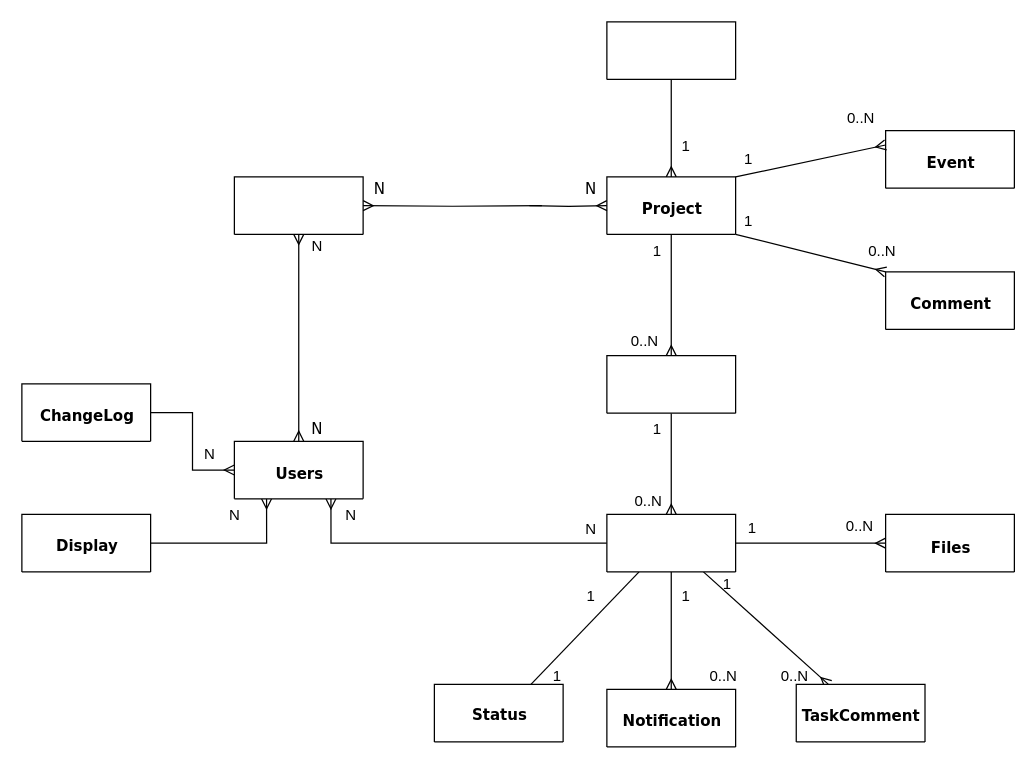
This 1036x770 diagram has some shape labels left out. The shapes that lost their labels are listed below. From the top down, each one's box as (x1, y1, x2, y2) in pixels, then its label:
(606, 21, 736, 79): Kanban
(233, 176, 363, 234): Group
(606, 354, 736, 413): Module
(606, 513, 736, 572): Task
